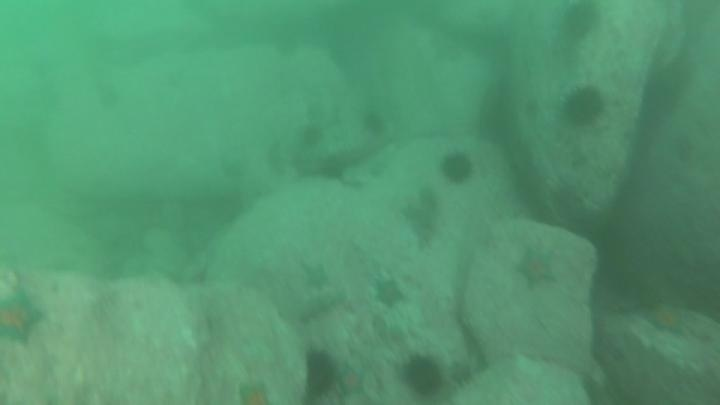echinus: (473, 88, 519, 148), (398, 352, 447, 401), (300, 347, 341, 402), (560, 83, 608, 129), (558, 2, 603, 43), (437, 149, 476, 187), (316, 153, 350, 184), (359, 108, 389, 139), (297, 122, 327, 150)
holothurian: (295, 286, 347, 326)
starfish: (1, 288, 48, 349), (512, 244, 560, 292), (642, 300, 691, 338), (333, 360, 372, 403), (411, 222, 451, 260), (369, 273, 408, 311), (297, 258, 333, 294), (235, 379, 275, 404), (447, 357, 476, 389), (401, 200, 421, 225)
